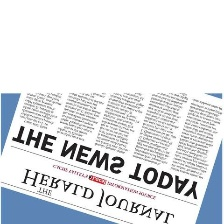news_paper: (0, 91, 223, 224)
